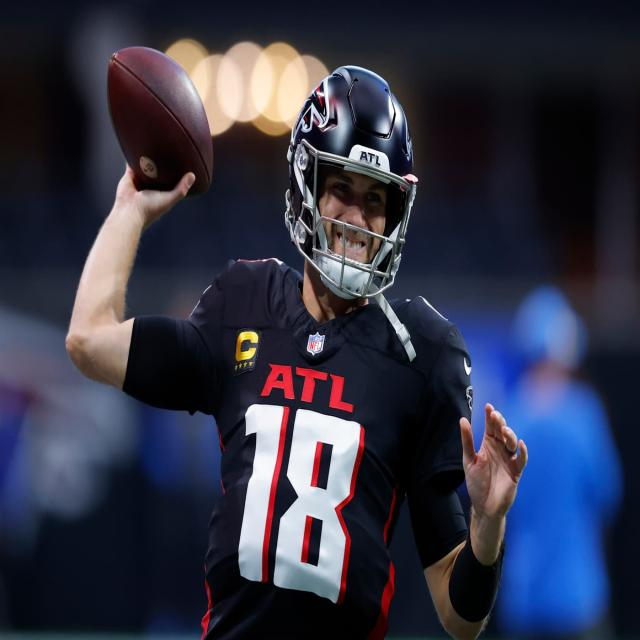Ball: (103, 47, 216, 196)
